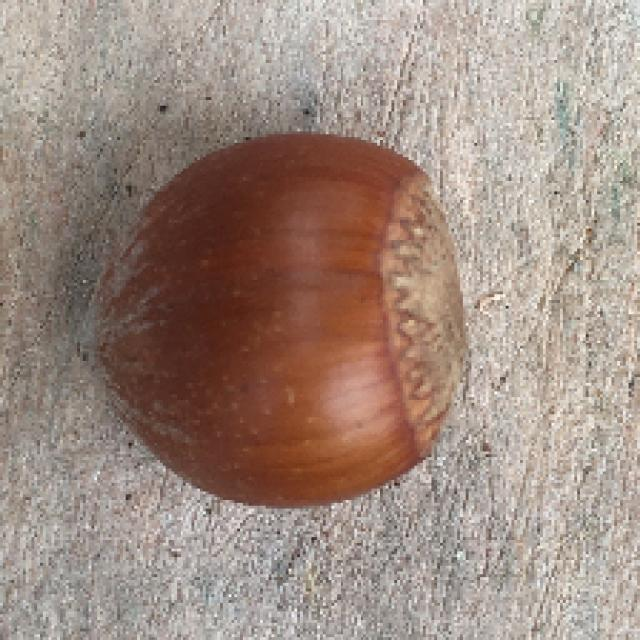qualityHazelnut: (68, 126, 474, 504)
